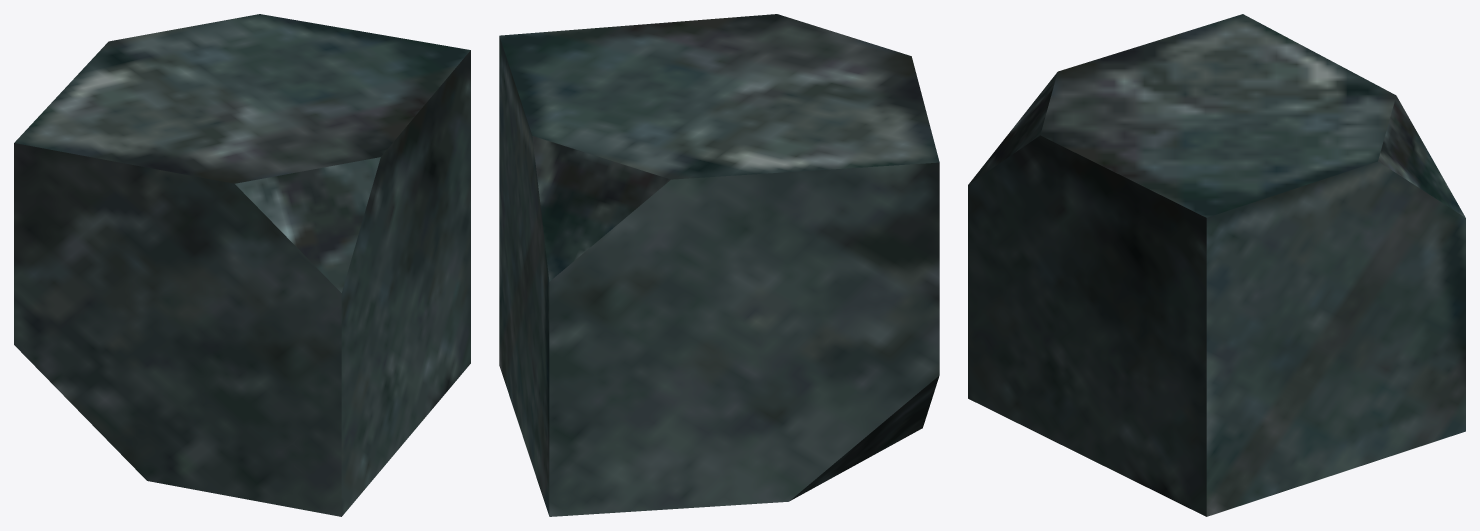
Rendered from floor_peice3.fbx.
The picture shows the model from 3 angles, left to right: view 1: azimuth 30°, elevation 25°; view 2: azimuth 150°, elevation 25°; view 3: azimuth 270°, elevation 25°; orthographic projection. The views are drawn at different scales.
Parts seen in each view (by area): view 1: floor_shadow; view 2: floor_shadow; view 3: floor_shadow.
Boxes of the visible parts, <box> form: floor_shadow: <box>14,14,470,516</box>; floor_shadow: <box>499,14,939,516</box>; floor_shadow: <box>968,14,1465,516</box>.
Bounding box in the file's own units: 0.743 × 0.5083 × 0.767.
